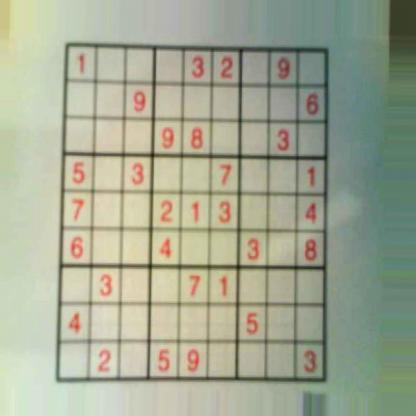sudoku: (50, 39, 333, 387)
